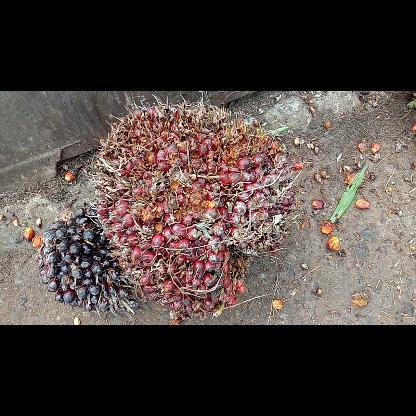TBS abnormal: (38, 207, 142, 315)
TBS masak: (92, 96, 298, 320)
